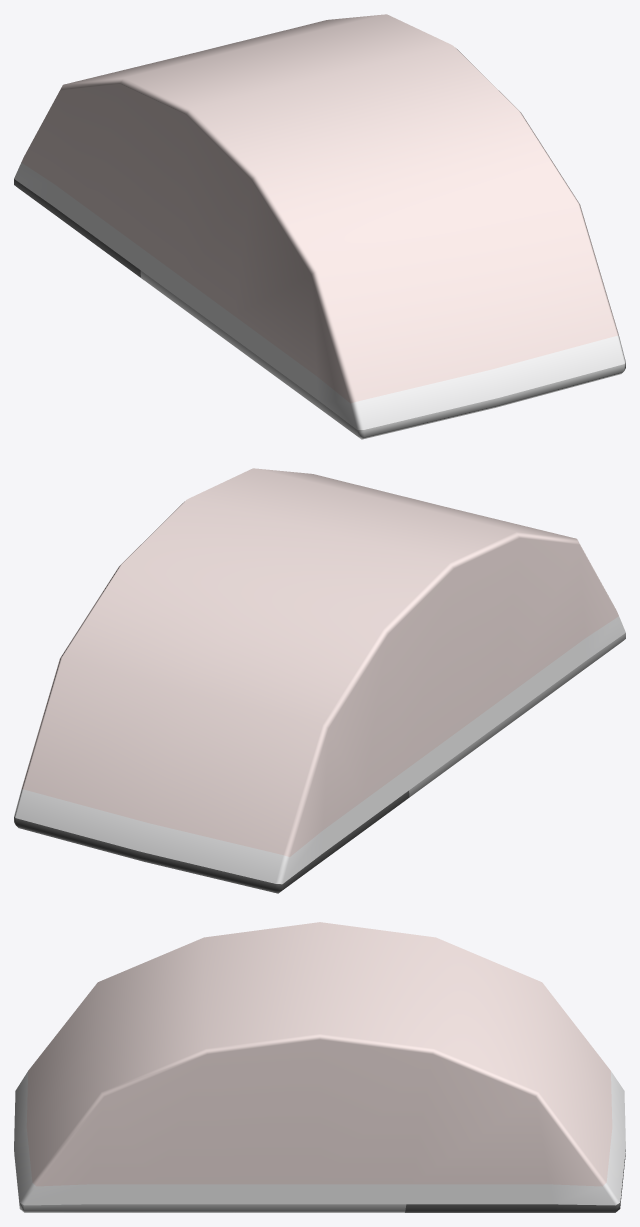
Rendered from SeaBass_2_Fillet_3.fbx.
3 renders of one model, top to bottom at view 1: azimuth 30°, elevation 25°; view 2: azimuth 150°, elevation 25°; view 3: azimuth 270°, elevation 25°, orthographic. The views are drawn at different scales.
Visible parts, largest first — view 1: SeaBass_2_Fillet_3; view 2: SeaBass_2_Fillet_3; view 3: SeaBass_2_Fillet_3.
Boxes of the visible parts, x1,y1,x2,y2 form: SeaBass_2_Fillet_3: [14, 14, 625, 439]; SeaBass_2_Fillet_3: [14, 468, 625, 893]; SeaBass_2_Fillet_3: [14, 922, 625, 1212].
Bounding box in the file's own units: 14.2 × 10.27 × 31.8.
